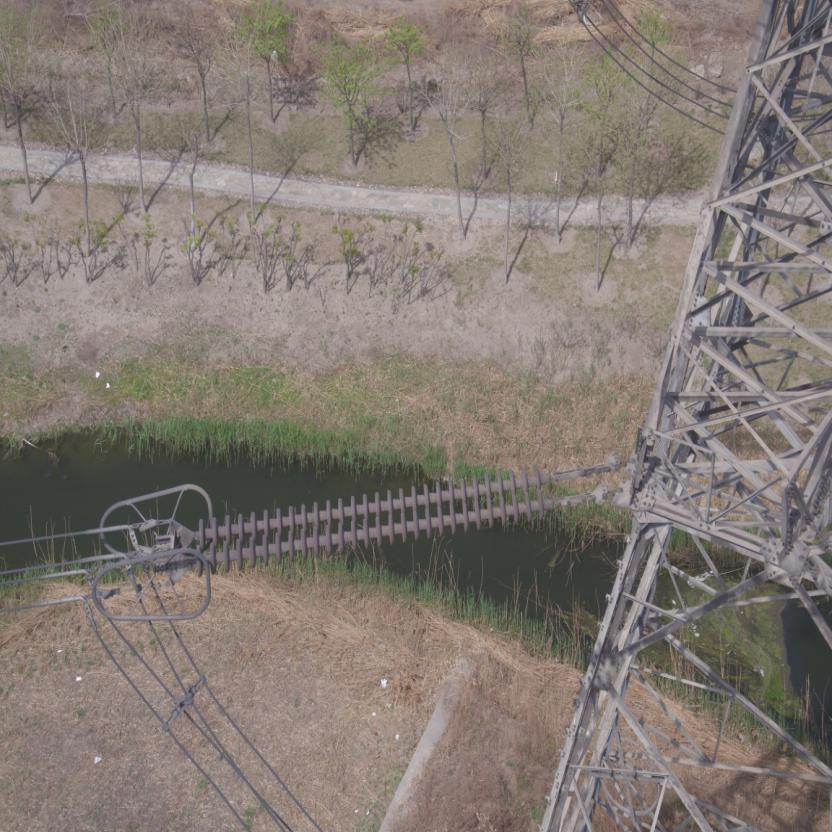insulator: (176, 458, 595, 577)
